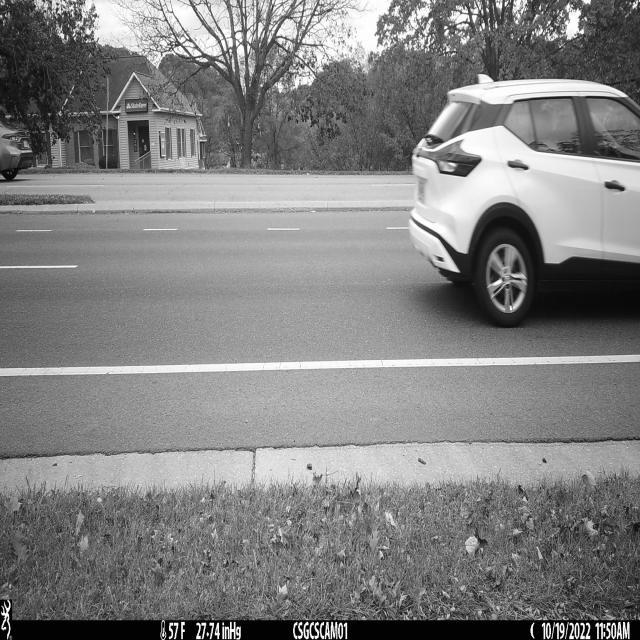SUV: (408, 71, 640, 326)
